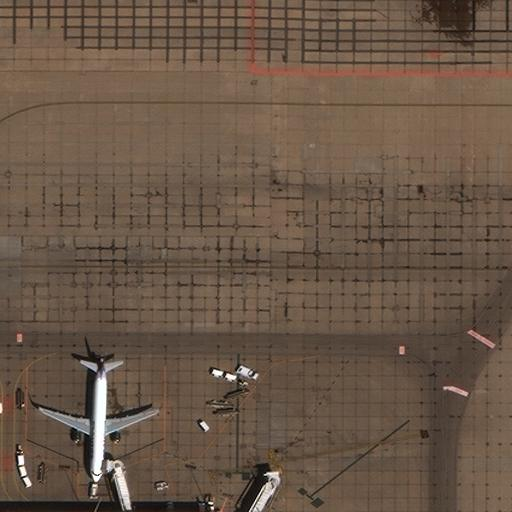Medium Civil Transport: (38, 357, 157, 482)
